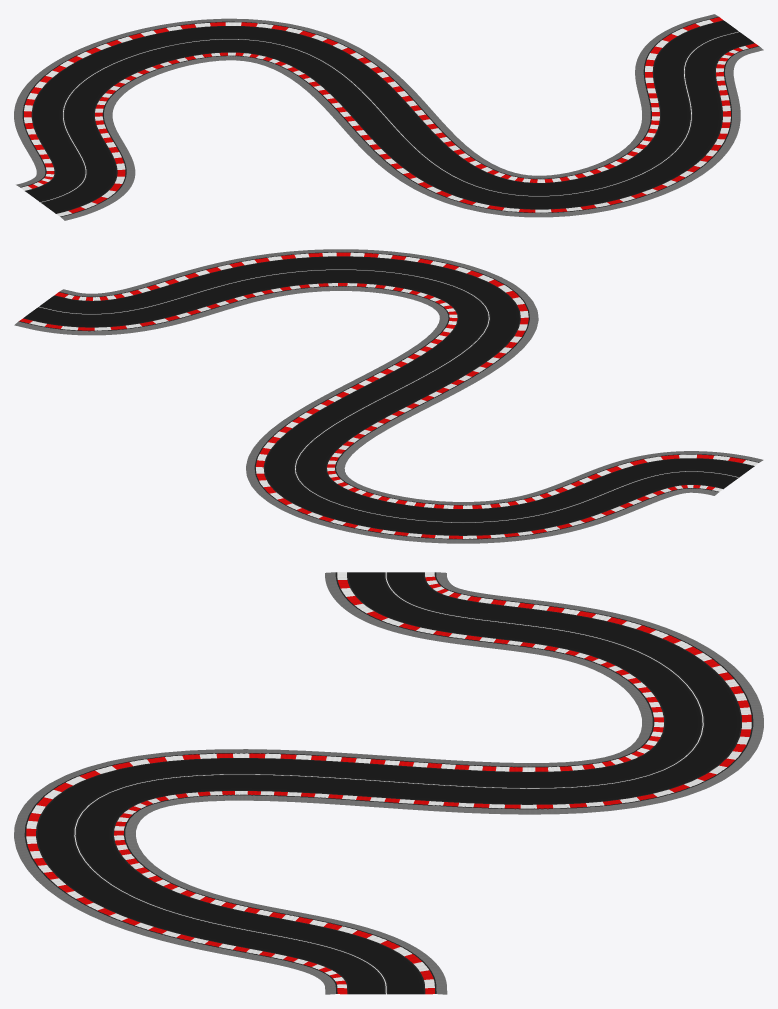
File: S0.Group.202.export.A1M1H0chicaneLRhard.glb
3 renders of one model, top to bottom at view 1: azimuth 30°, elevation 25°; view 2: azimuth 150°, elevation 25°; view 3: azimuth 270°, elevation 25°, orthographic. The views are drawn at different scales.
Visible parts, largest first — view 1: Grid; view 2: Grid; view 3: Grid.
Part boxes in pixels (x1,y1,x2,y2): Grid: (14, 14, 763, 220); Grid: (14, 249, 763, 543); Grid: (14, 572, 763, 994).
Bounding box in the file's own units: 205 × 0.21 × 154.
